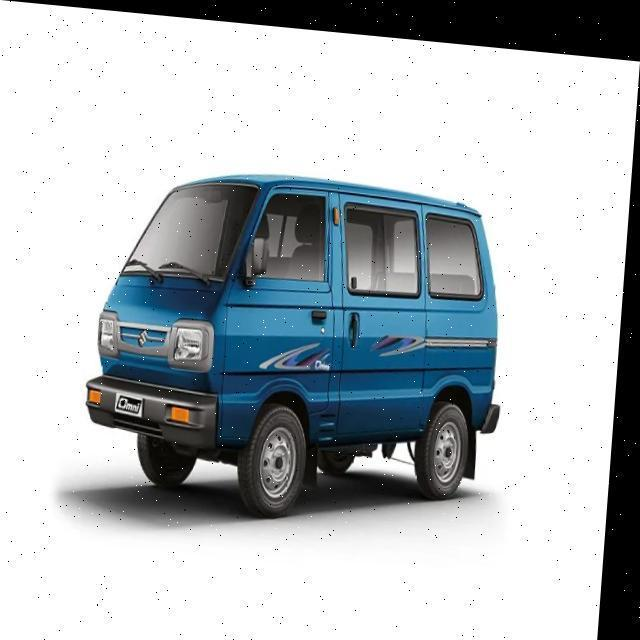Ambulance: (83, 150, 520, 532)
